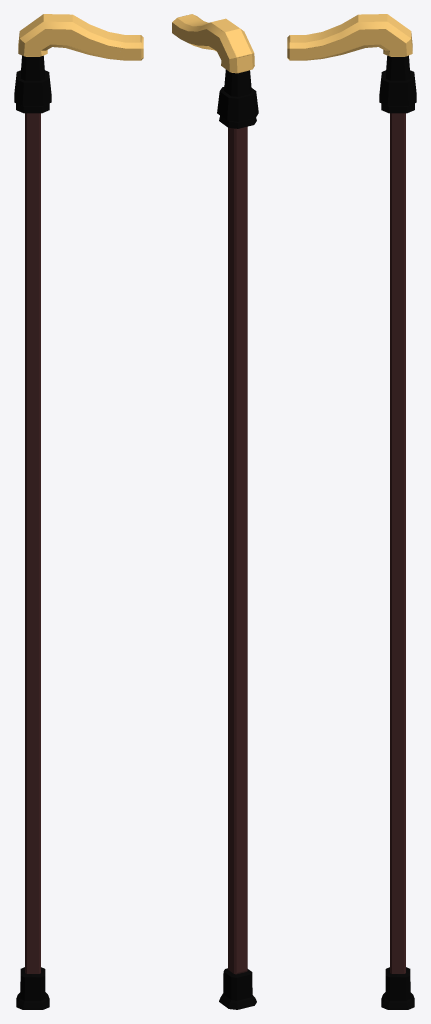
File: Sword_00.fbx
3 views of the same model, side by side, from view 1: azimuth 90°, elevation 25°; view 2: azimuth 210°, elevation 25°; view 3: azimuth 270°, elevation 25° (orthographic).
Visible parts, largest first — view 1: Cube; view 2: Cube; view 3: Cube.
Boxes of the visible parts, <box> form: Cube: <box>14,14,143,1009</box>; Cube: <box>172,14,258,1009</box>; Cube: <box>287,14,416,1009</box>.
Bounding box in the file's own units: 15.77 × 461 × 54.84.
Materials: 1 (1 with a texture image).
